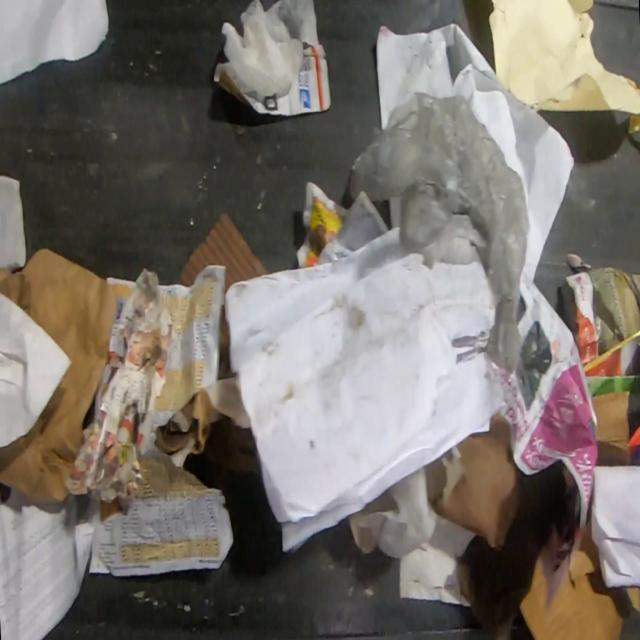cardboard: (425, 411, 523, 553), (517, 514, 624, 640), (213, 44, 332, 117), (178, 207, 271, 295), (154, 389, 224, 455), (201, 415, 260, 476), (347, 490, 396, 556), (590, 389, 632, 465), (217, 305, 235, 380), (620, 585, 640, 617)
soft_plastic: (348, 90, 534, 411), (220, 0, 306, 97), (366, 463, 438, 561)
